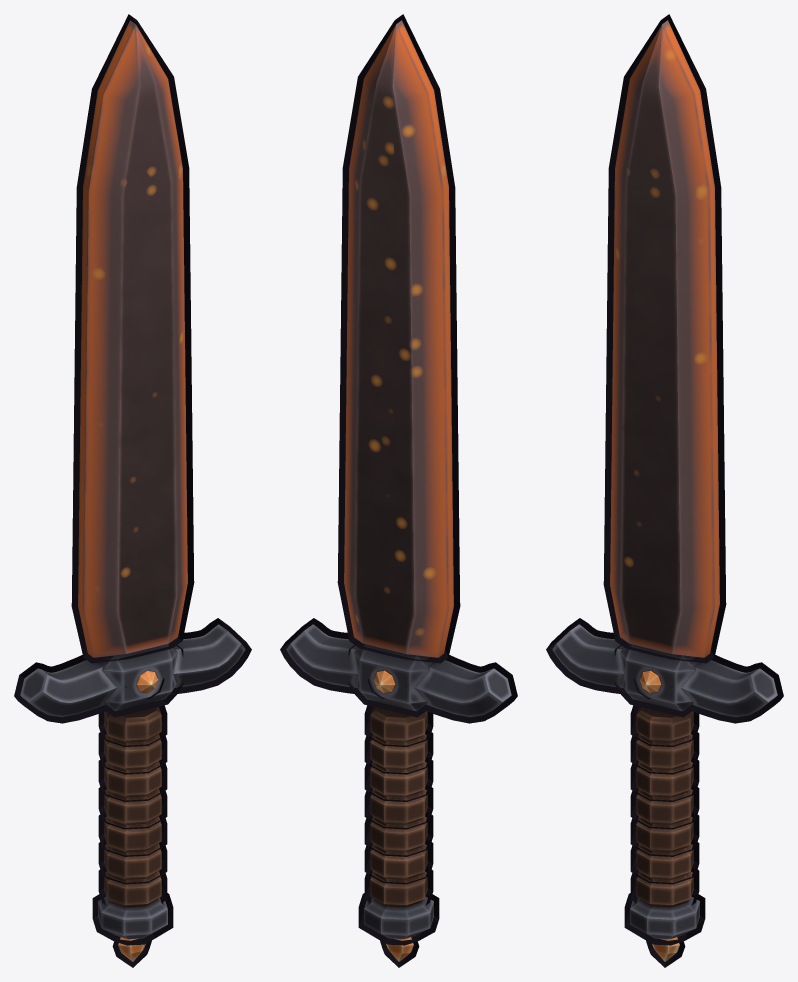
File: EmberBlade.fbx
3 renders of one model, left to right at view 1: azimuth 30°, elevation 25°; view 2: azimuth 150°, elevation 25°; view 3: azimuth 330°, elevation 25°, orthographic.
Visible parts, largest first — view 1: EmberBlade, EmberBladeOutline, EmberBladeEmberGlow; view 2: EmberBlade, EmberBladeOutline, EmberBladeEmberGlow; view 3: EmberBlade, EmberBladeOutline, EmberBladeEmberGlow.
Boxes of the visible parts, x1,y1,x2,y2 form: EmberBlade: (20, 20, 245, 939); EmberBladeOutline: (14, 14, 251, 967); EmberBladeEmberGlow: (118, 670, 158, 961); EmberBlade: (286, 20, 511, 939); EmberBladeOutline: (280, 14, 517, 967); EmberBladeEmberGlow: (373, 670, 413, 961); EmberBlade: (552, 20, 777, 939); EmberBladeOutline: (546, 14, 783, 967); EmberBladeEmberGlow: (639, 670, 679, 961).
Bounding box in the file's own units: 91.18 × 366 × 30.4.
Materials: 2 (1 with a texture image).
